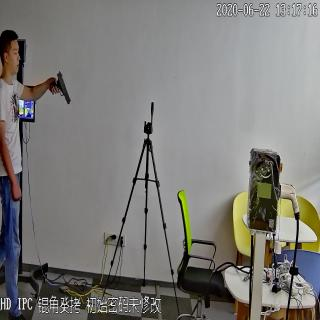gun: (50, 70, 72, 105)
